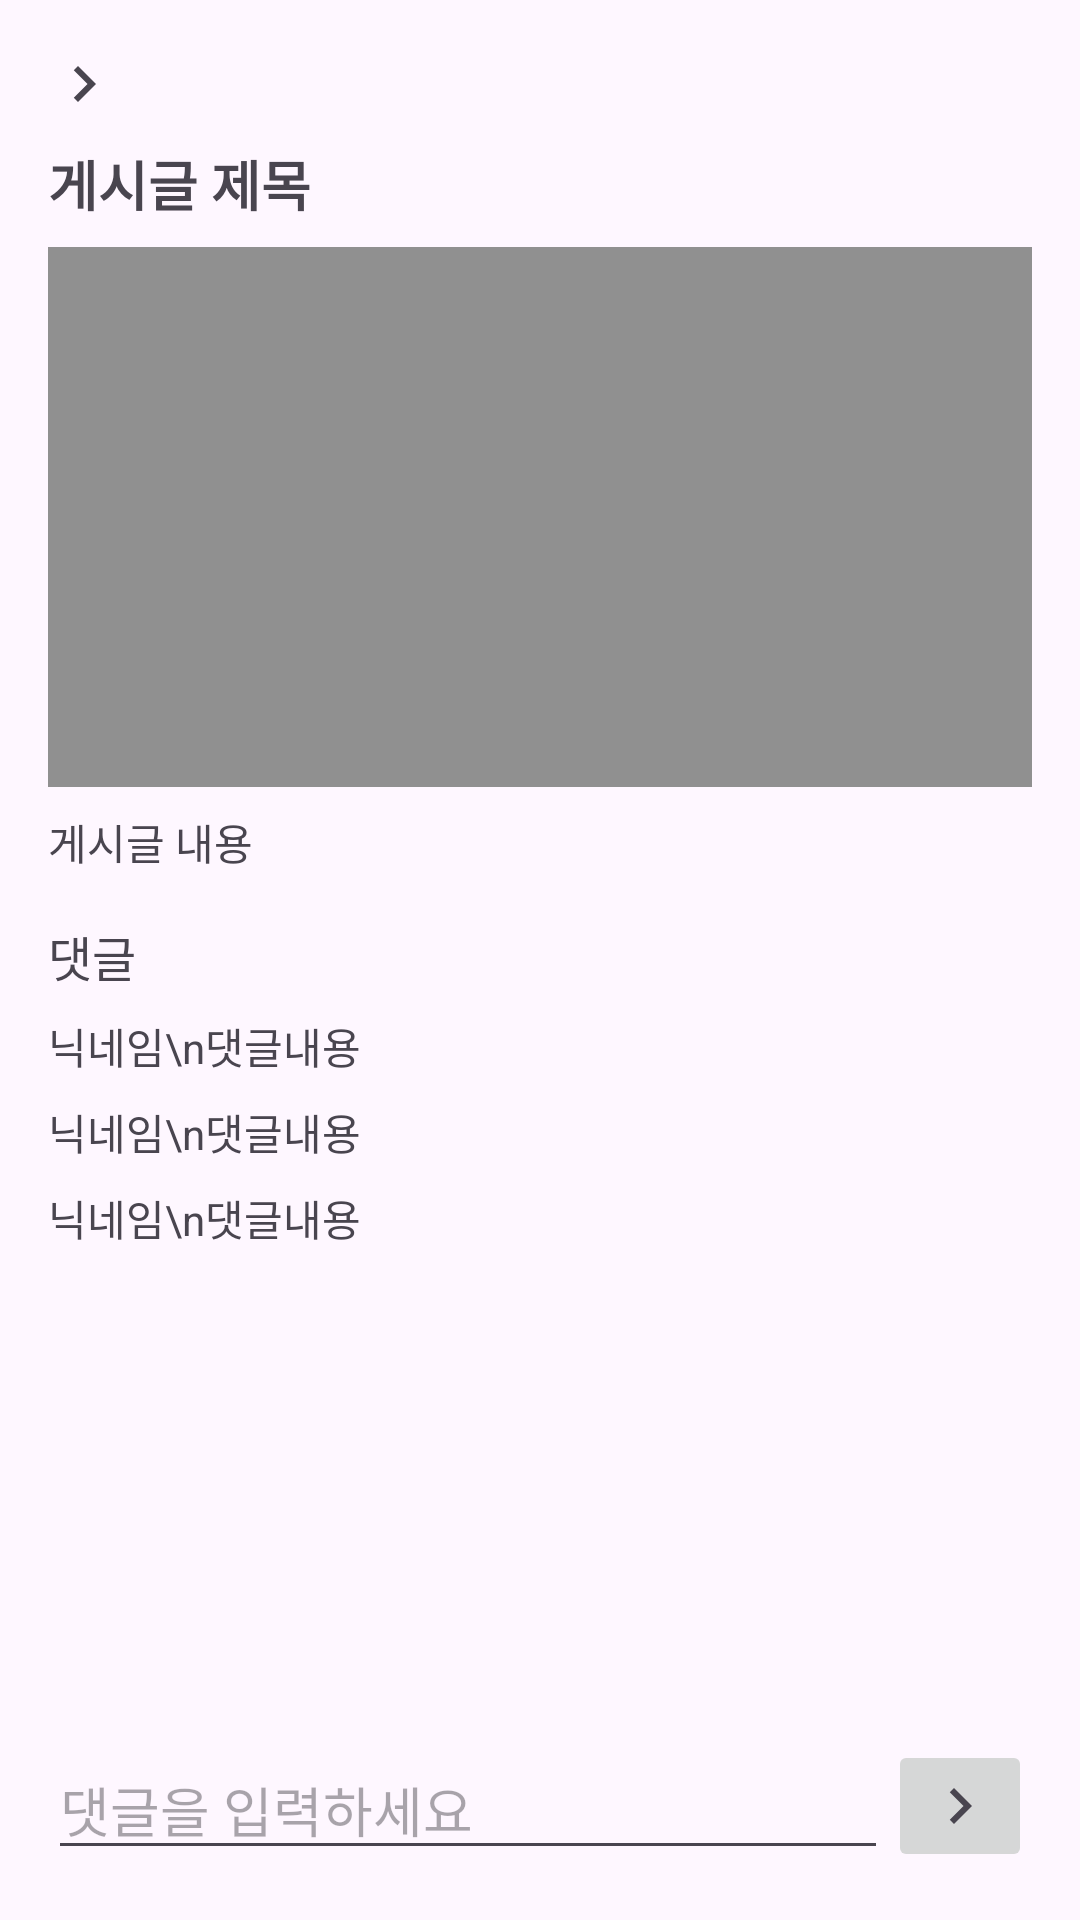

Screen size 1080 x 1920. Icon name, then its box in pixels as BBox(x1, y1, x2, y2):
chevron right: BBox(74, 66, 96, 102)
